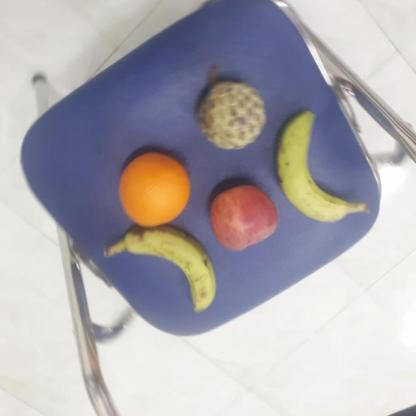annona: (198, 81, 268, 151)
apple: (206, 185, 282, 251)
banana: (117, 226, 222, 315), (276, 110, 350, 225)
orange: (116, 151, 195, 231)
